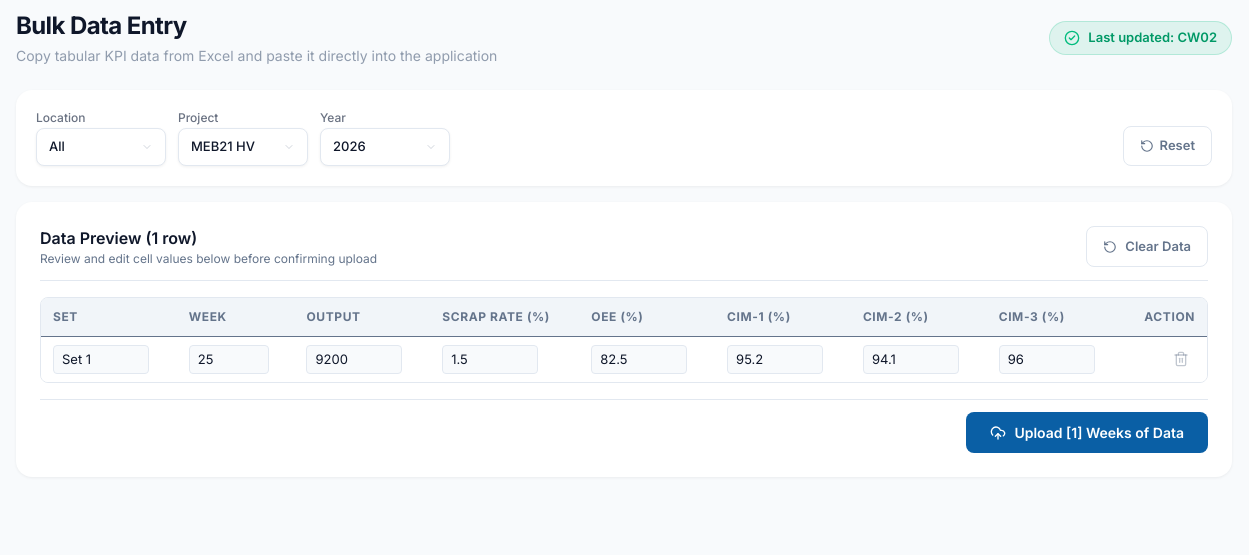
Test: BulkDataEntry Integration Tests › clears preview table when Clear Data is clicked
Expected: the text "Last updated: CW02" is shown, [1088,28,1217,48]
Expected: the heading "Data Preview (1 row)" is shown, [40,228,197,248]
Click the button "Clear Data": (1147, 247) [1086,226,1208,267]
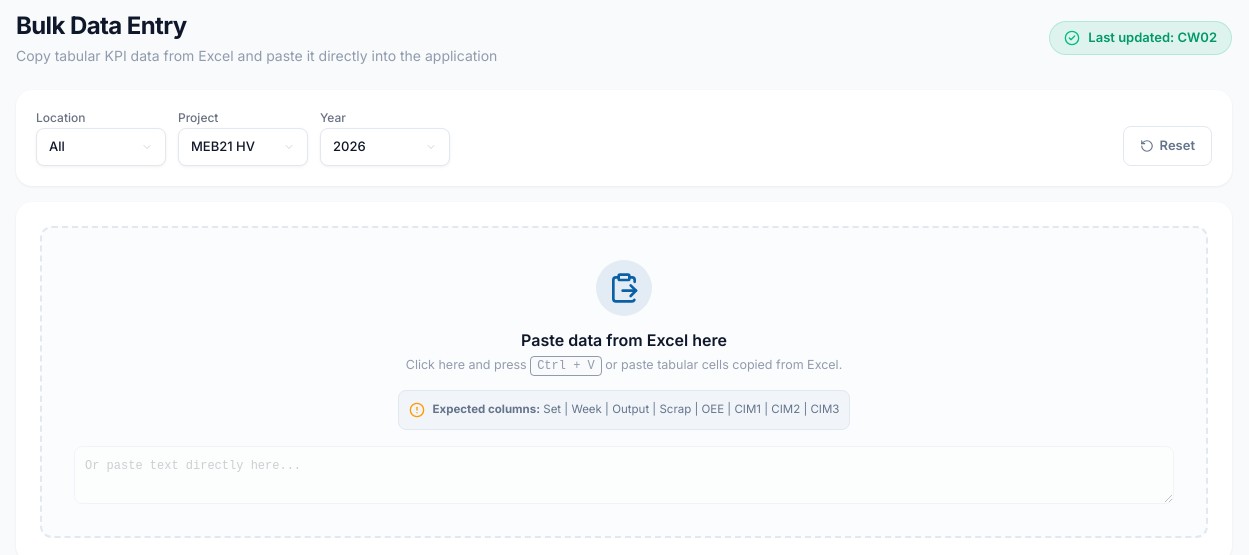
Result: the heading "Paste data from Excel here" is shown at [521,328,727,352]
